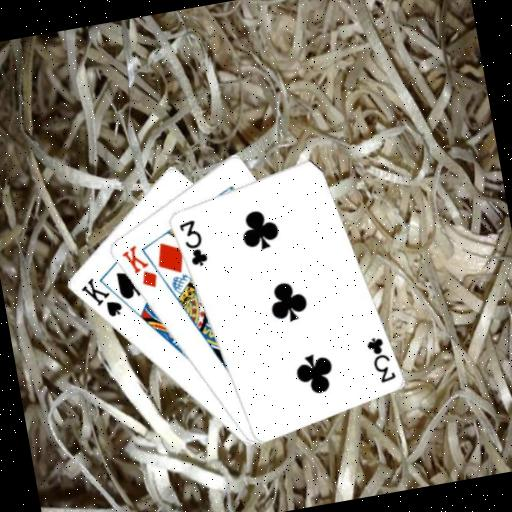3C: (361, 330, 398, 386), (174, 214, 210, 270)
KD: (116, 239, 160, 294)
KS: (75, 270, 125, 324)
